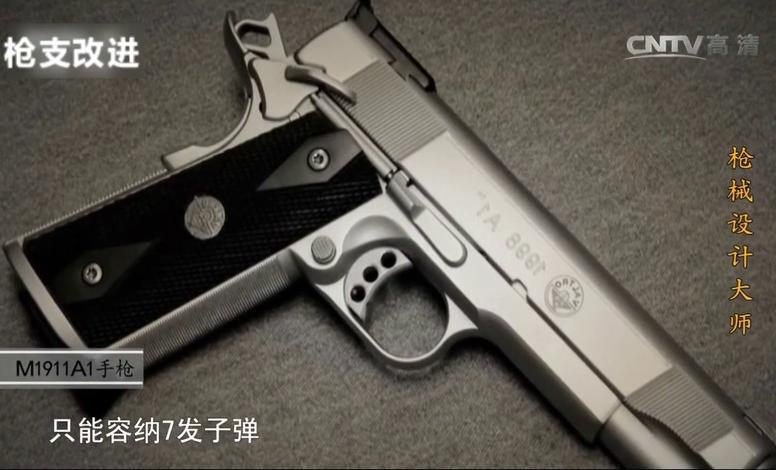gun: (1, 1, 776, 470)
